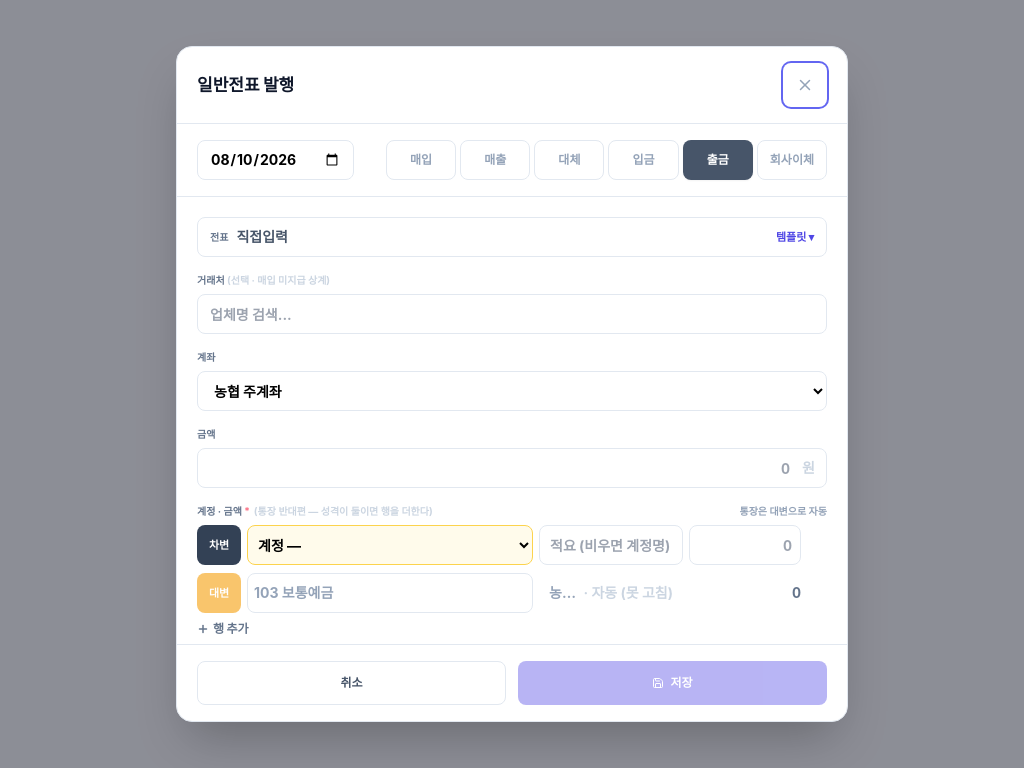
회사이체 저장 결과와 입력 보존 › 거절되면 금액과 계좌를 보존하고 오류를 보여 준다
Click the button "회사이체" at (792, 160), box [757, 140, 827, 180]
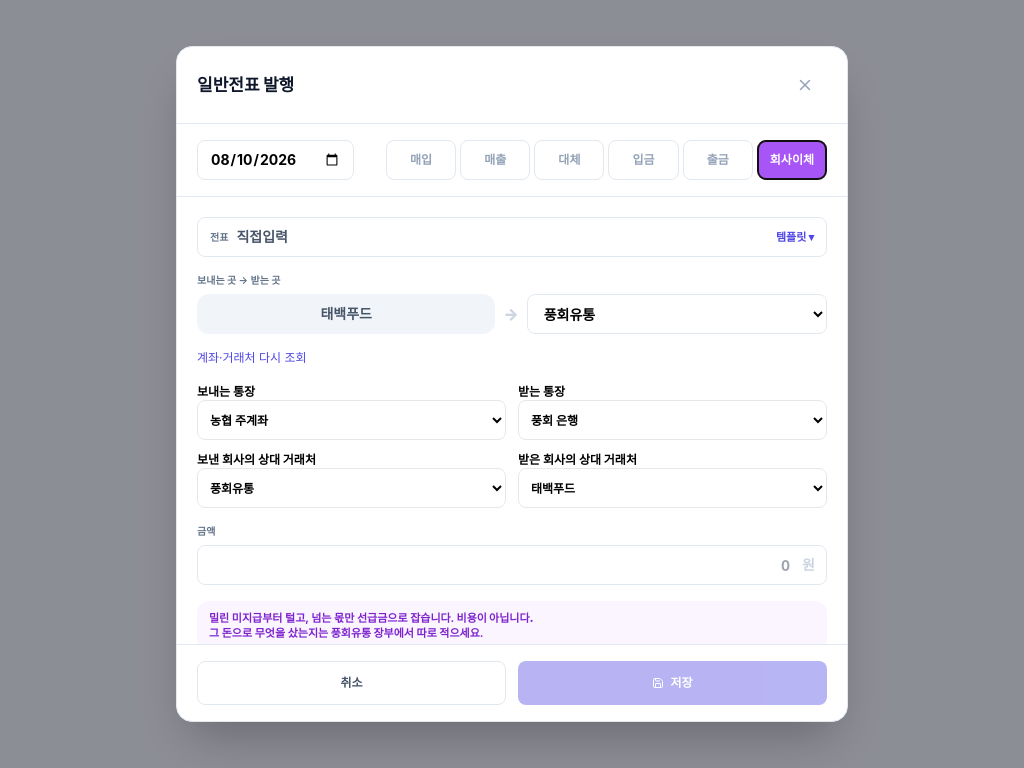
Check: the dropdown labelled "받는 통장" is shown, box [518, 400, 827, 440]
Type "321" into the field labelled "금액" at (512, 565), box [197, 545, 827, 585]
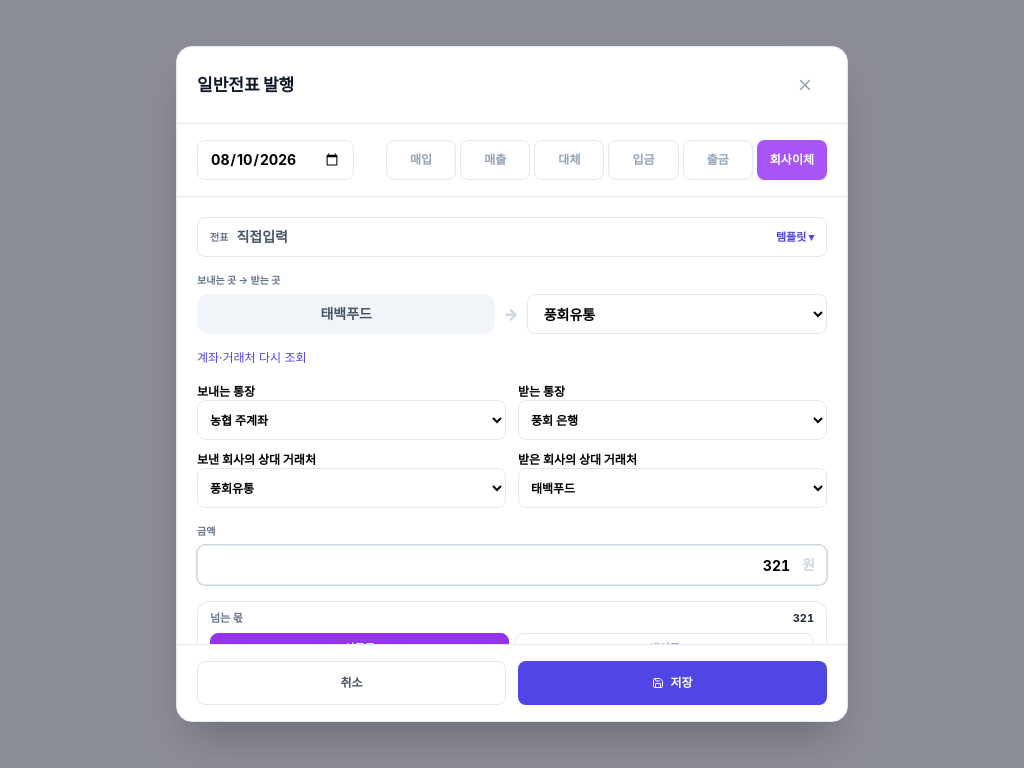
Click the button "저장" at (672, 683), box [518, 661, 827, 705]
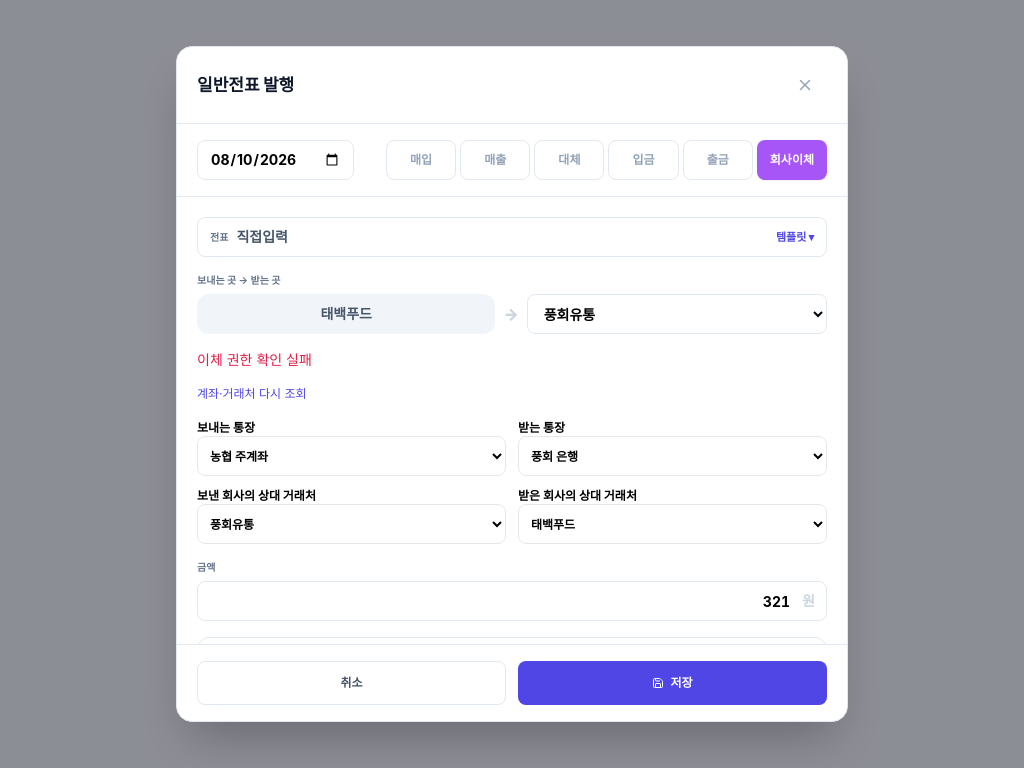
Check: the dropdown labelled "받는 통장" shows "풍회 은행", box [518, 436, 827, 476]
Check: the message reads "이체 권한 확인 실패", box [197, 351, 312, 368]
